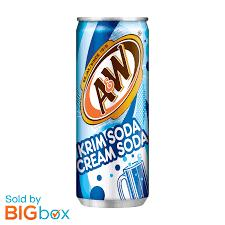Aluminum can: (68, 11, 164, 217)
